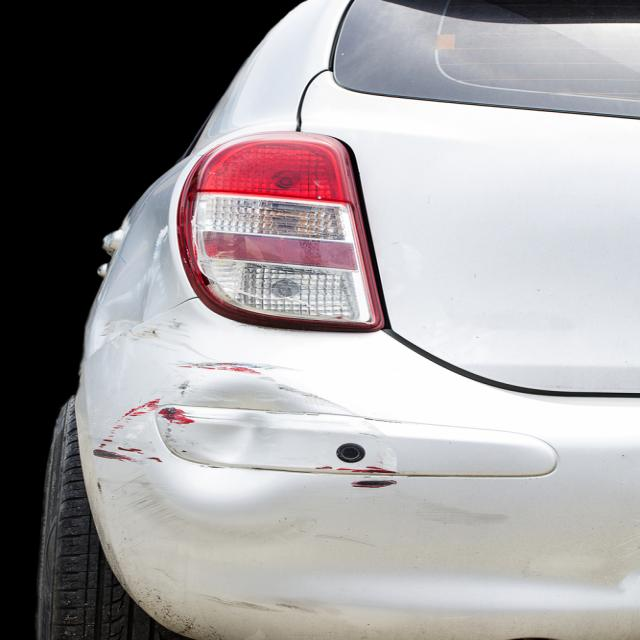Cabossage: (142, 369, 336, 518), (88, 161, 185, 344)
Rayure: (161, 349, 341, 408), (77, 390, 197, 466), (293, 458, 413, 494)
